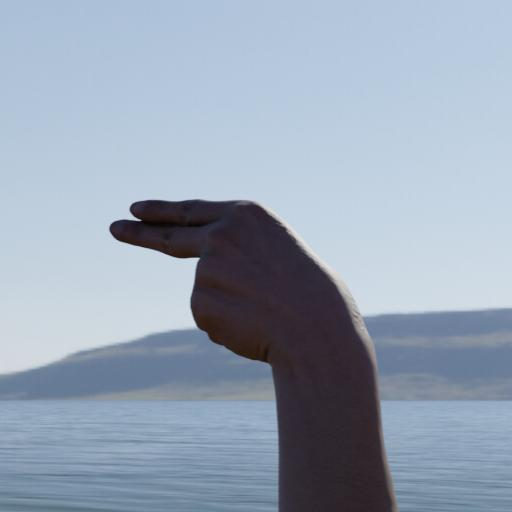H: (100, 192, 387, 385)
